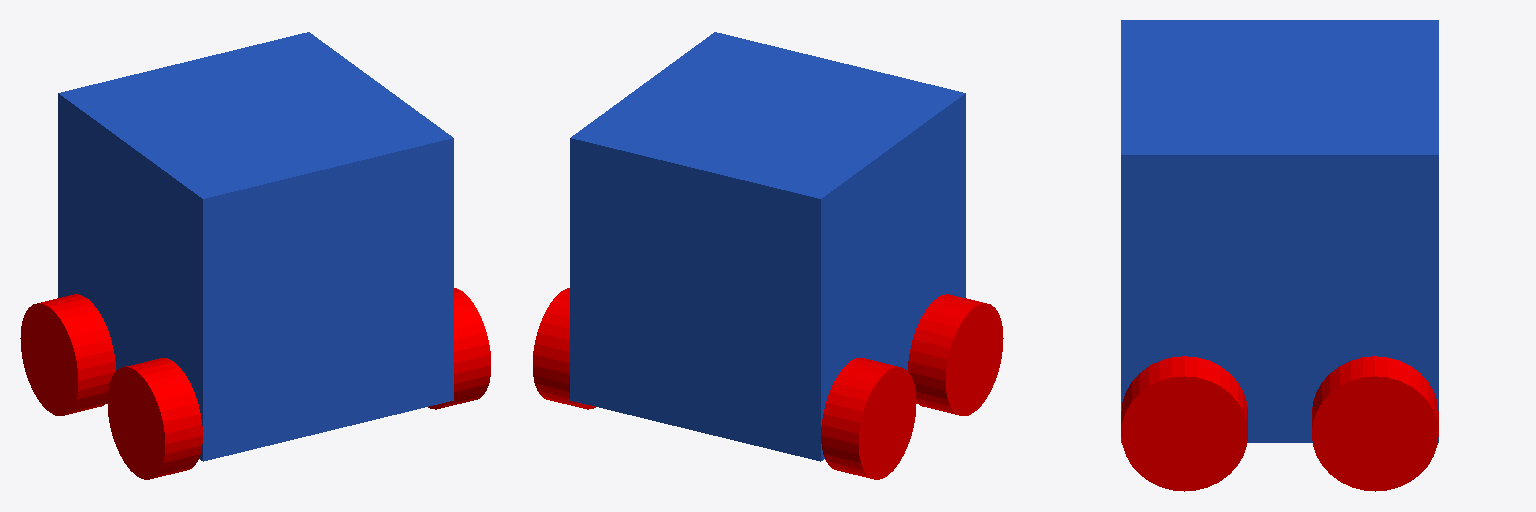
The robot description file, URDF, robot "simple_block":
<?xml version="1.0"?>
<robot name="simple_block">

    <link name="world"/>

    <joint name="world_to_base" type="fixed">
        <parent link="world"/>
        <child link="base_link"/>
        <origin xyz="0 0 0" rpy="0 0 0"/>
    </joint>

    <joint name="wheel1_to_base" type="continuous">
        <parent link="base_link"/>
        <child link="wheel1"/>
        <axis xyz="0 0 1"/>
        <origin xyz="-0.575 0.3 -0.4" rpy="1.5708 0 1.5708"/>
    </joint>

    <joint name="wheel2_to_base" type="continuous">
        <parent link="base_link"/>
        <child link="wheel2"/>
        <axis xyz="0 0 1"/>
        <origin xyz="0.575 0.3 -0.4" rpy="1.5708 0 1.5708"/>
    </joint>

    <joint name="wheel3_to_base" type="continuous">
        <parent link="base_link"/>
        <child link="wheel3"/>
        <axis xyz="0 0 1"/>
        <origin xyz="-0.575 -0.3 -0.4" rpy="1.5708 0 1.5708"/>
    </joint>

    <joint name="wheel4_to_base" type="continuous">
        <parent link="base_link"/>
        <child link="wheel4"/>
        <axis xyz="0 0 1"/>
        <origin xyz="0.575 -0.3 -0.4" rpy="1.5708 0 1.5708"/>
    </joint>

    <link name="base_link">
        <visual>
            <geometry>
                <box size="1.0 1.0 1.0"/>
            </geometry>
            <material name="blue">
                <color rgba="0.2 0.4 0.8 1.0"/>
            </material>
            <origin xyz="0 0 0" rpy="0 0 0"/>
        </visual>
        <collision>
            <geometry>
                <box size="1.0 1.0 1.0"/>
            </geometry>
            <origin xyz="0 0 0" rpy="0 0 0"/>
        </collision>
        <inertial>
            <mass value="0.4"/>
            <inertia ixx="0.02" ixy="0.0" ixz="0.0" iyy="0.02" iyz="0.0" izz="0.0"/>
        </inertial>
    </link>

    <link name="wheel1">
        <visual>
            <geometry>
                <cylinder radius="0.2" length="0.15"/>
            </geometry>
            <material name="red">
                <color rgba="1.0 0.0 0.0 1.0"/>
            </material>
            <origin xyz="0 0 0" rpy="0 0 0"/>
        </visual>
        <collision>
            <geometry>
                <cylinder radius="0.2" length="0.15"/>
            </geometry>
            <origin xyz="0 0 0" rpy="0 0 0"/>   
        </collision>
        <inertial>
            <mass value="0.1"/>
            <inertia ixx="0.02" ixy="0.0" ixz="0.0" iyy="0.02" iyz="0.0" izz="0.02"/>
        </inertial>
    </link>
    <link name="wheel2">
        <visual>
            <geometry>
                <cylinder radius="0.2" length="0.15"/>
            </geometry>
            <material name="red">
                <color rgba="1.0 0.0 0.0 1.0"/>
            </material>
            <origin xyz="0 0 0" rpy="0 0 0"/>
        </visual>
        <collision>
            <geometry>
                <cylinder radius="0.2" length="0.15"/>
            </geometry>
            <origin xyz="0 0 0" rpy="0 0 0"/>   
        </collision>
        <inertial>
            <mass value="0.1"/>
            <inertia ixx="0.02" ixy="0.0" ixz="0.0" iyy="0.02" iyz="0.0" izz="0.02"/>
        </inertial>
    </link>
    <link name="wheel3">
        <visual>
            <geometry>
                <cylinder radius="0.2" length="0.15"/>
            </geometry>
            <material name="red">
                <color rgba="1.0 0.0 0.0 1.0"/>
            </material>
            <origin xyz="0 0 0" rpy="0 0 0"/>
        </visual>
        <collision>
            <geometry>
                <cylinder radius="0.2" length="0.15"/>
            </geometry>
            <origin xyz="0 0 0" rpy="0 0 0"/>   
        </collision>
        <inertial>
            <mass value="0.1"/>
            <inertia ixx="0.02" ixy="0.0" ixz="0.0" iyy="0.02" iyz="0.0" izz="0.02"/>
        </inertial>
    </link>
    <link name="wheel4">
        <visual>
            <geometry>
                <cylinder radius="0.2" length="0.15"/>
            </geometry>
            <material name="red">
                <color rgba="1.0 0.0 0.0 1.0"/>
            </material>
            <origin xyz="0 0 0" rpy="0 0 0"/>
        </visual>
        <collision>
            <geometry>
                <cylinder radius="0.2" length="0.15"/>
            </geometry>
            <origin xyz="0 0 0" rpy="0 0 0"/>   
        </collision>
        <inertial>
            <mass value="0.1"/>
            <inertia ixx="0.02" ixy="0.0" ixz="0.0" iyy="0.02" iyz="0.0" izz="0.02"/>
        </inertial>
    </link>

</robot>

--- What the picture shows (computed from the rendered views, not written in the file) ---
3 views of the same robot in one strip: view 1: azimuth 30°, elevation 25°; view 2: azimuth 150°, elevation 25°; view 3: azimuth 270°, elevation 25° (orthographic).
Model simple_block with 6 links and 5 joints (4 continuous, 1 fixed), rooted at world, posed all joints at 0.
Links seen in each view (by area): view 1: base_link, wheel3, wheel1, wheel4; view 2: base_link, wheel1, wheel3, wheel2; view 3: base_link, wheel2, wheel4.
Boxes of the visible links, <box> form: base_link: <box>58,32,453,461</box>; wheel3: <box>107,358,202,479</box>; wheel1: <box>20,294,115,415</box>; wheel4: <box>428,288,490,409</box>; base_link: <box>570,32,965,461</box>; wheel1: <box>821,358,916,479</box>; wheel3: <box>908,294,1003,415</box>; wheel2: <box>533,288,595,409</box>; base_link: <box>1121,20,1438,442</box>; wheel2: <box>1312,356,1438,491</box>; wheel4: <box>1121,356,1247,491</box>.
Size in the robot's own frame: 1.3 by 1 by 1.1 metres.
Geometry: primitives only (box / cylinder / sphere), no mesh files.
